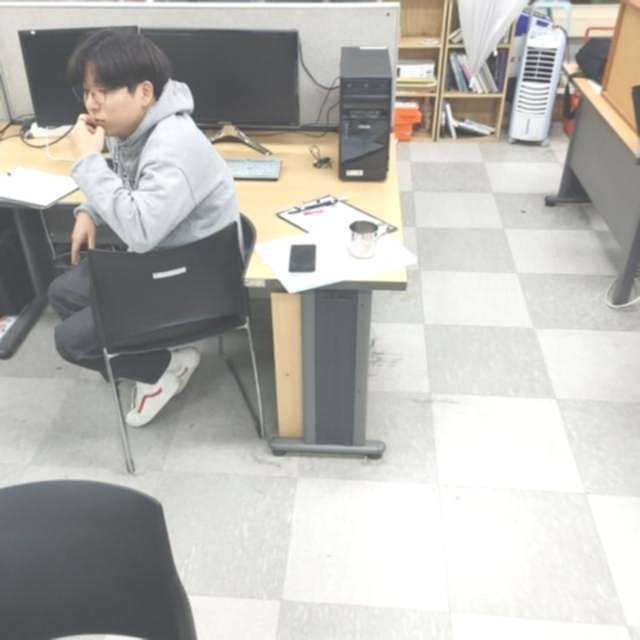cup: (345, 218, 390, 260)
phone: (285, 241, 320, 276)
